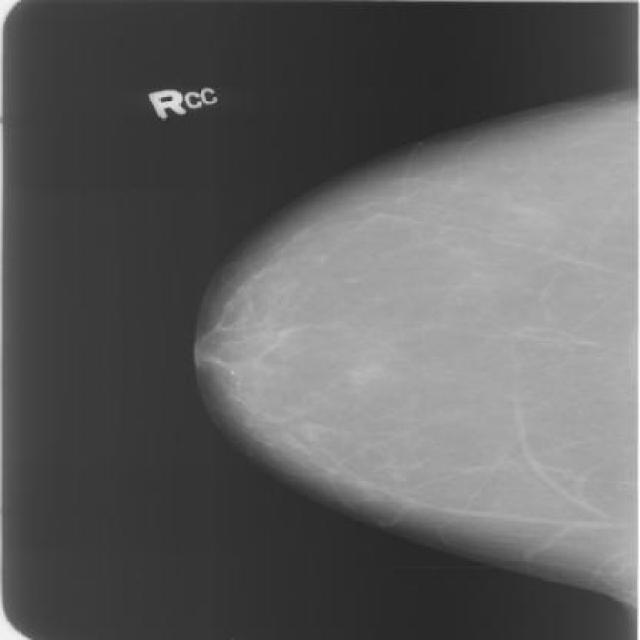tumor: (180, 232, 335, 468)
